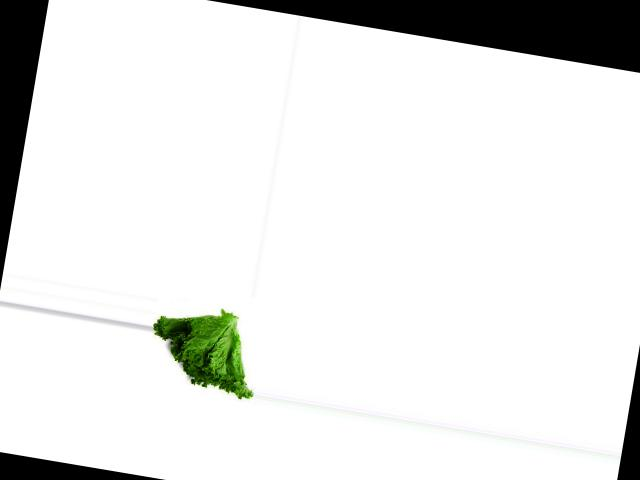lettuce: (142, 301, 266, 403)
